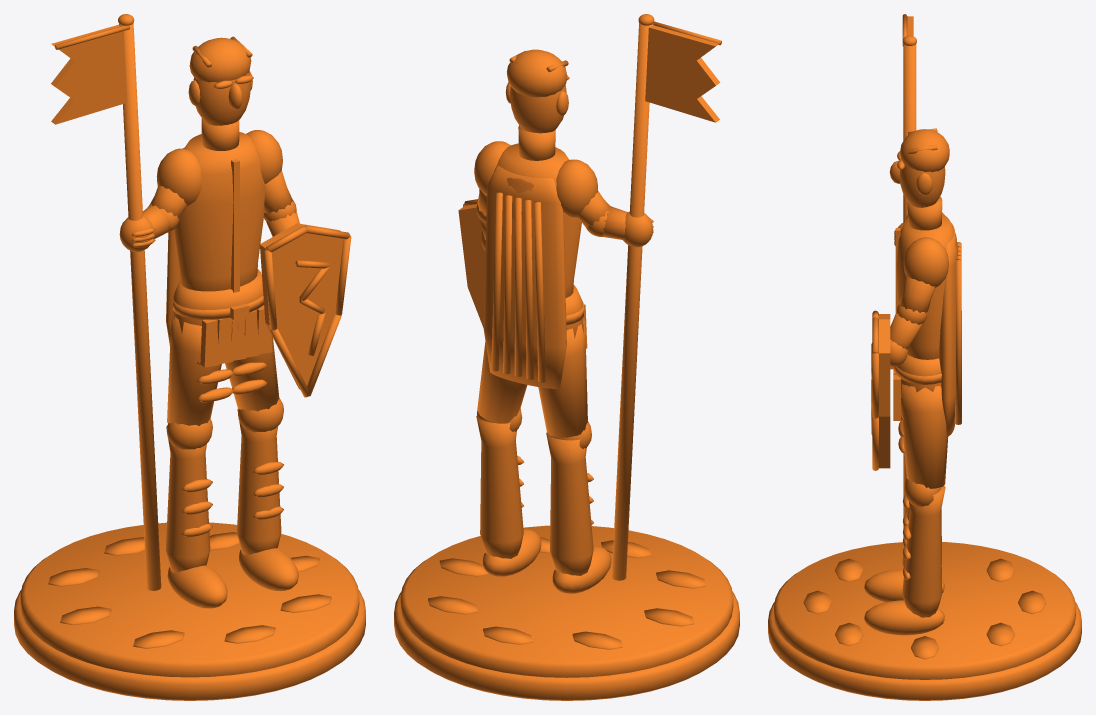
Rendered from knight-orange-level-3-bare.fbx.
3 renders of one model, left to right at view 1: azimuth 30°, elevation 25°; view 2: azimuth 150°, elevation 25°; view 3: azimuth 270°, elevation 25°, orthographic. The views are drawn at different scales.
Parts seen in each view (by area): view 1: Knight_Level_3_Bare_Sculpt; view 2: Knight_Level_3_Bare_Sculpt; view 3: Knight_Level_3_Bare_Sculpt.
Part boxes in pixels (box(x1,y1,x2,y2)): Knight_Level_3_Bare_Sculpt: box(14, 14, 365, 700); Knight_Level_3_Bare_Sculpt: box(394, 14, 739, 700); Knight_Level_3_Bare_Sculpt: box(768, 14, 1081, 700).
Size of the model in its own units: 0.012 by 0.024 by 0.012.
